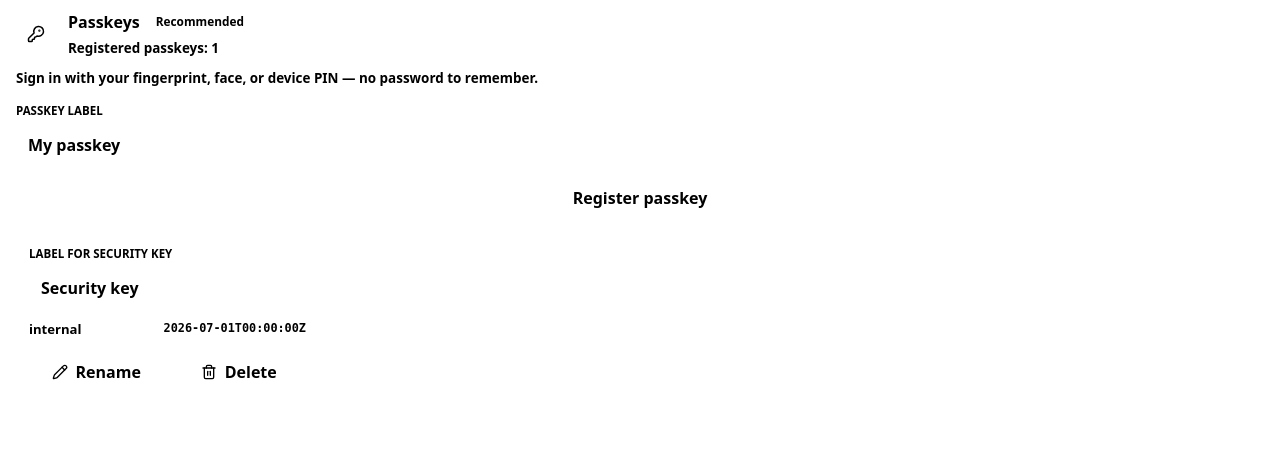
Test: PasskeySettingsView › registers, renames, and deletes passkeys
Check: the field labelled "Label for Security key" is shown, box x1=29 y1=268 x2=306 y2=308
Replace the text in the field labelled "Passkey label" with "Laptop". click: (640, 145)
box: x1=16 y1=125 x2=1264 y2=165
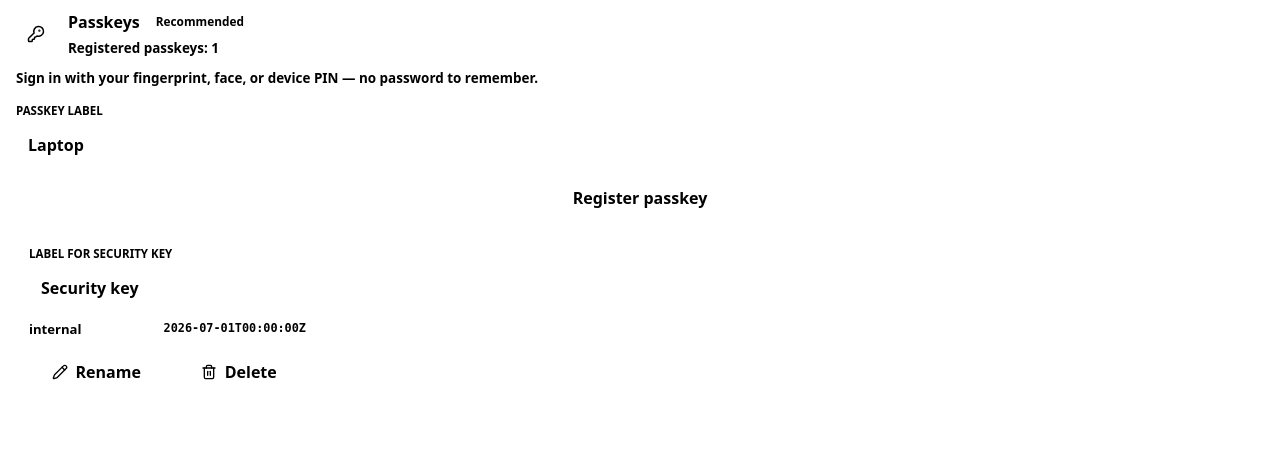
Click the button "Register passkey". click: (640, 198)
box: x1=16 y1=177 x2=1264 y2=219
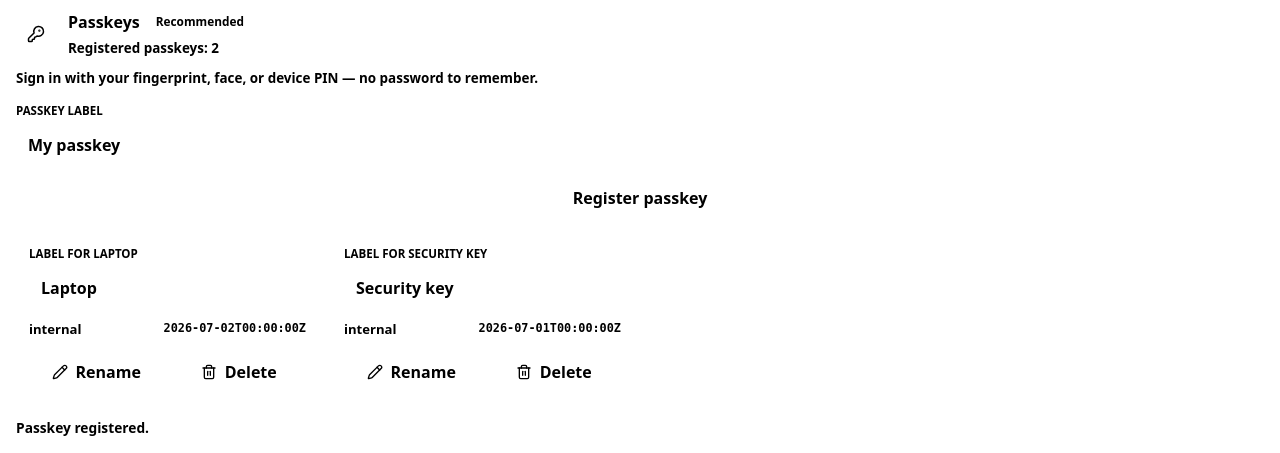
Check: the list item labelled "Label for Security key" is shown, box x1=331 y1=232 x2=634 y2=405
Check: the text "Passkey registered." is shown, box x1=16 y1=418 x2=149 y2=437
Replace the text in the field labelled "Label for Security key" with "Renamed security key". click: (482, 288)
box: x1=344 y1=268 x2=621 y2=308
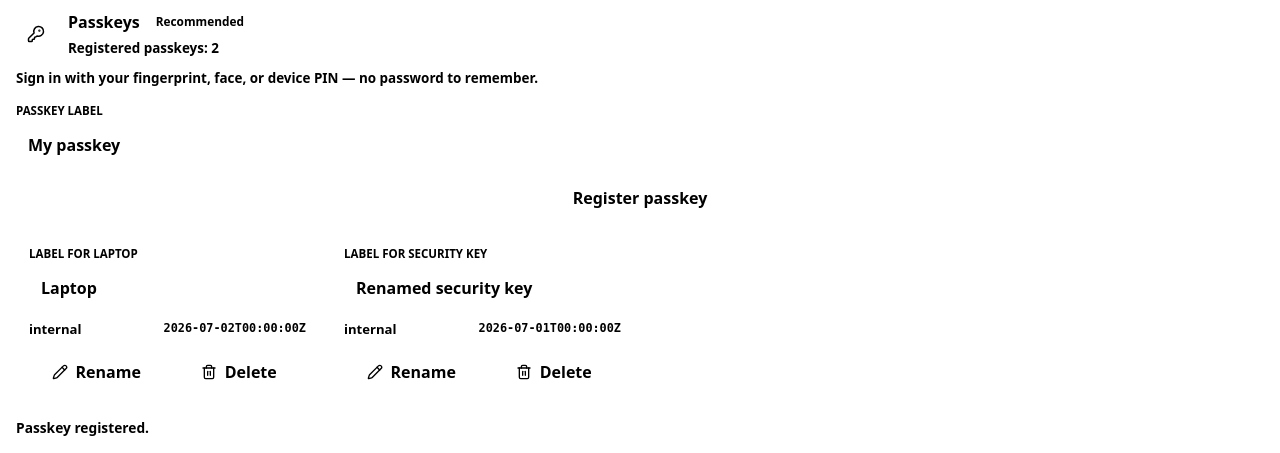
Click the button "Rename" below "Label for Security key". click: (411, 372)
box: x1=344 y1=352 x2=478 y2=392
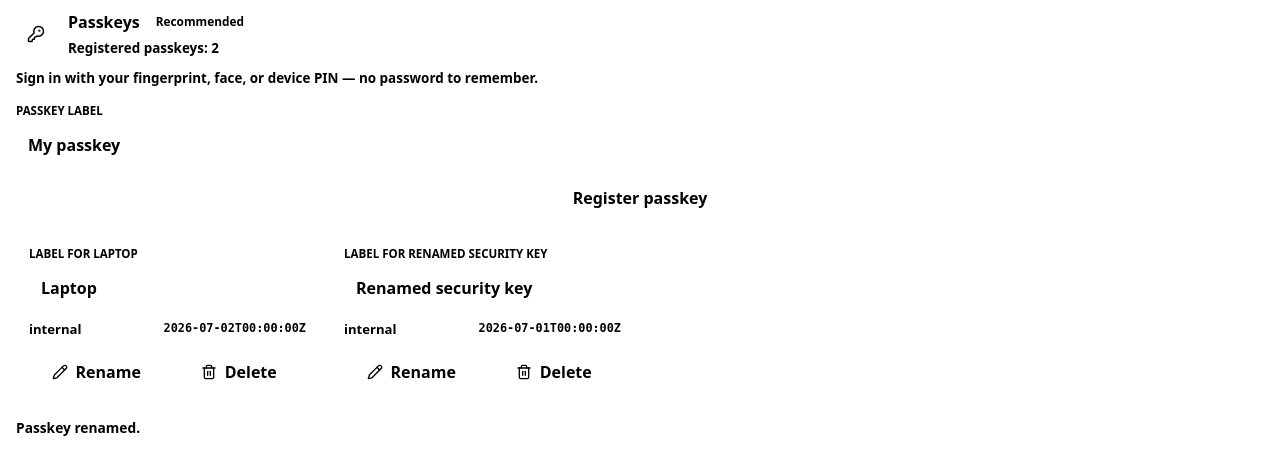
Check: the list item named "Label for Security key" is shown, box x1=331 y1=232 x2=634 y2=405
Check: the text "Passkey renamed." is shown, box x1=16 y1=418 x2=140 y2=437
Click the button "Delete" below "Label for Renamed security key". click: (554, 372)
box: x1=486 y1=352 x2=621 y2=392
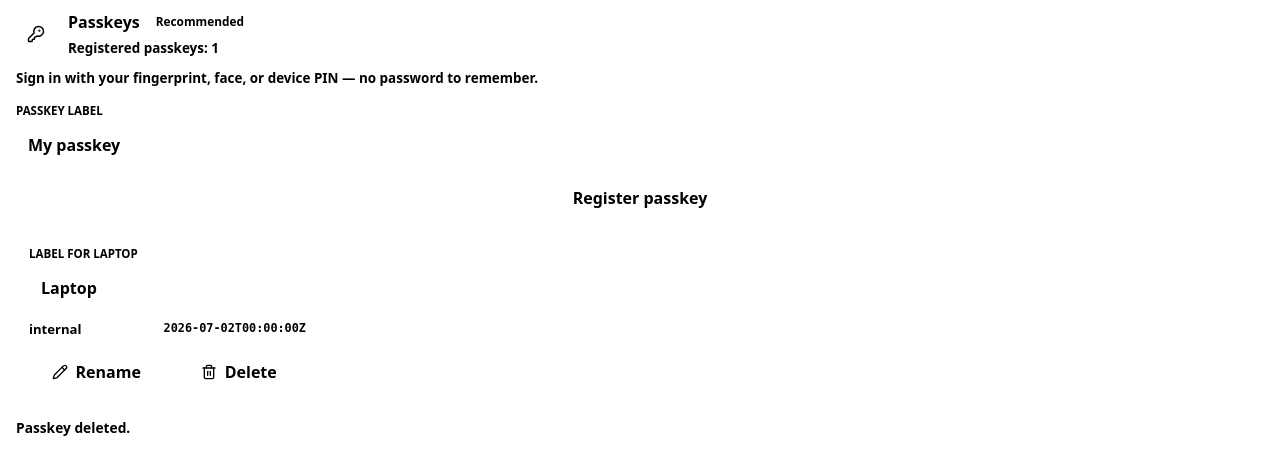
Check: the text "Passkey deleted." is shown, box x1=16 y1=418 x2=130 y2=437
